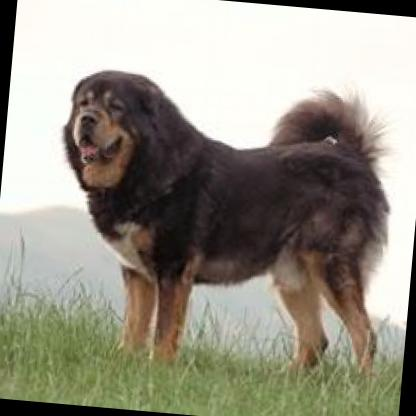Tibetan_mastiff: (42, 63, 402, 381)
